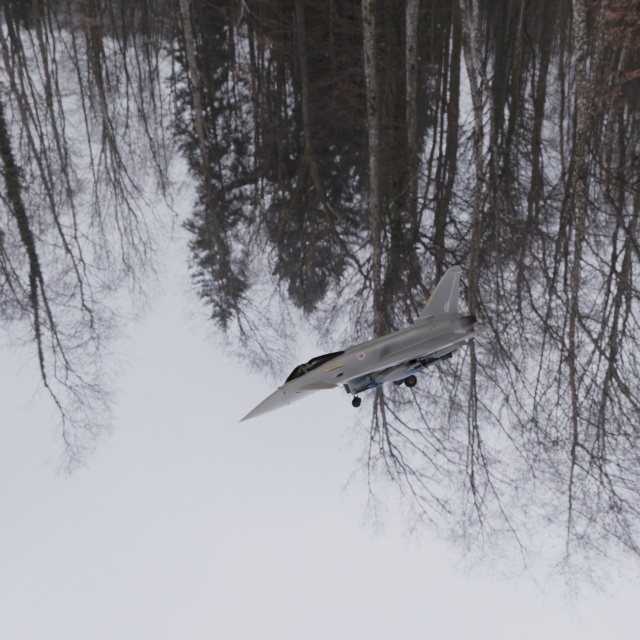eurofighter_typhoon_3d: (208, 250, 536, 471)
